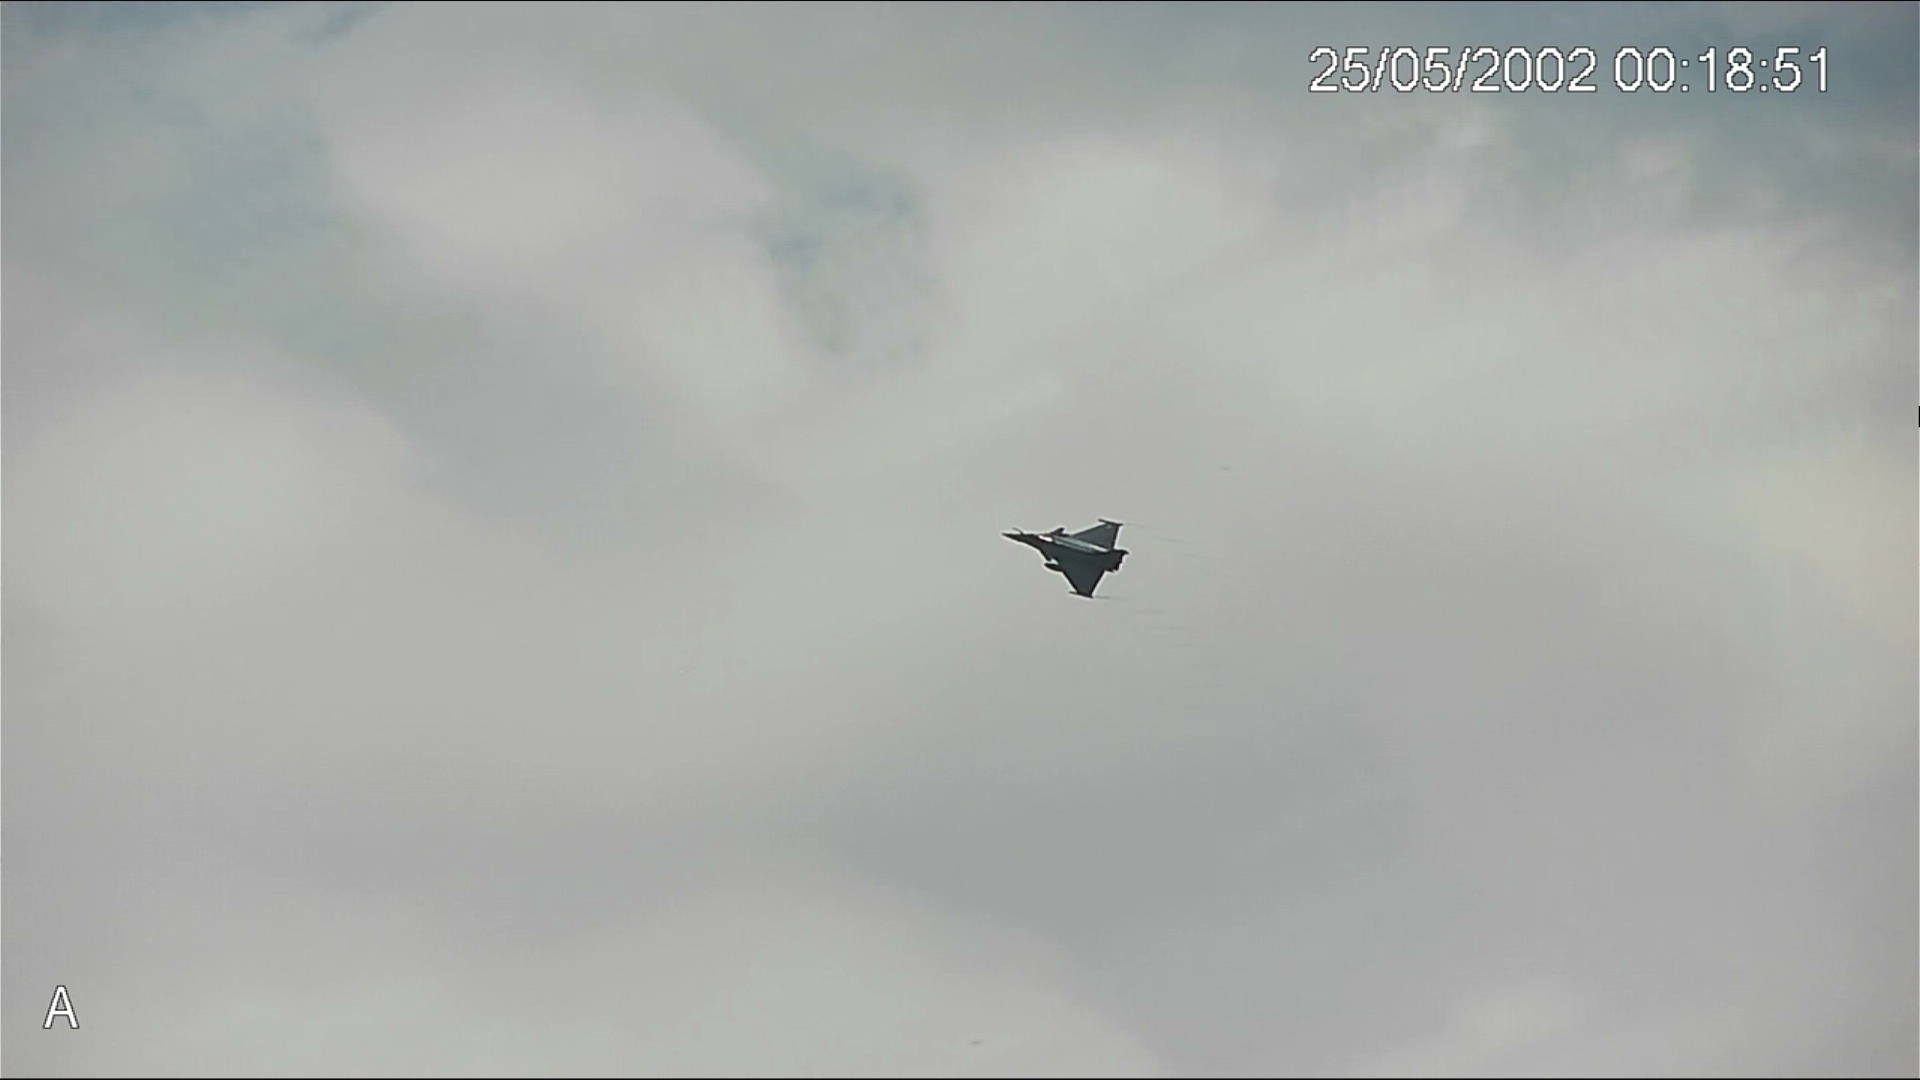SU_30: (984, 510, 1139, 603)
